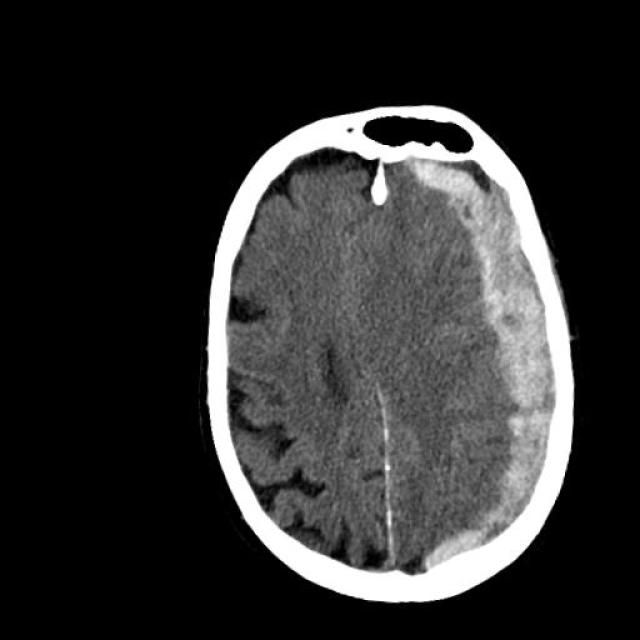Subdural: (364, 150, 616, 589)
